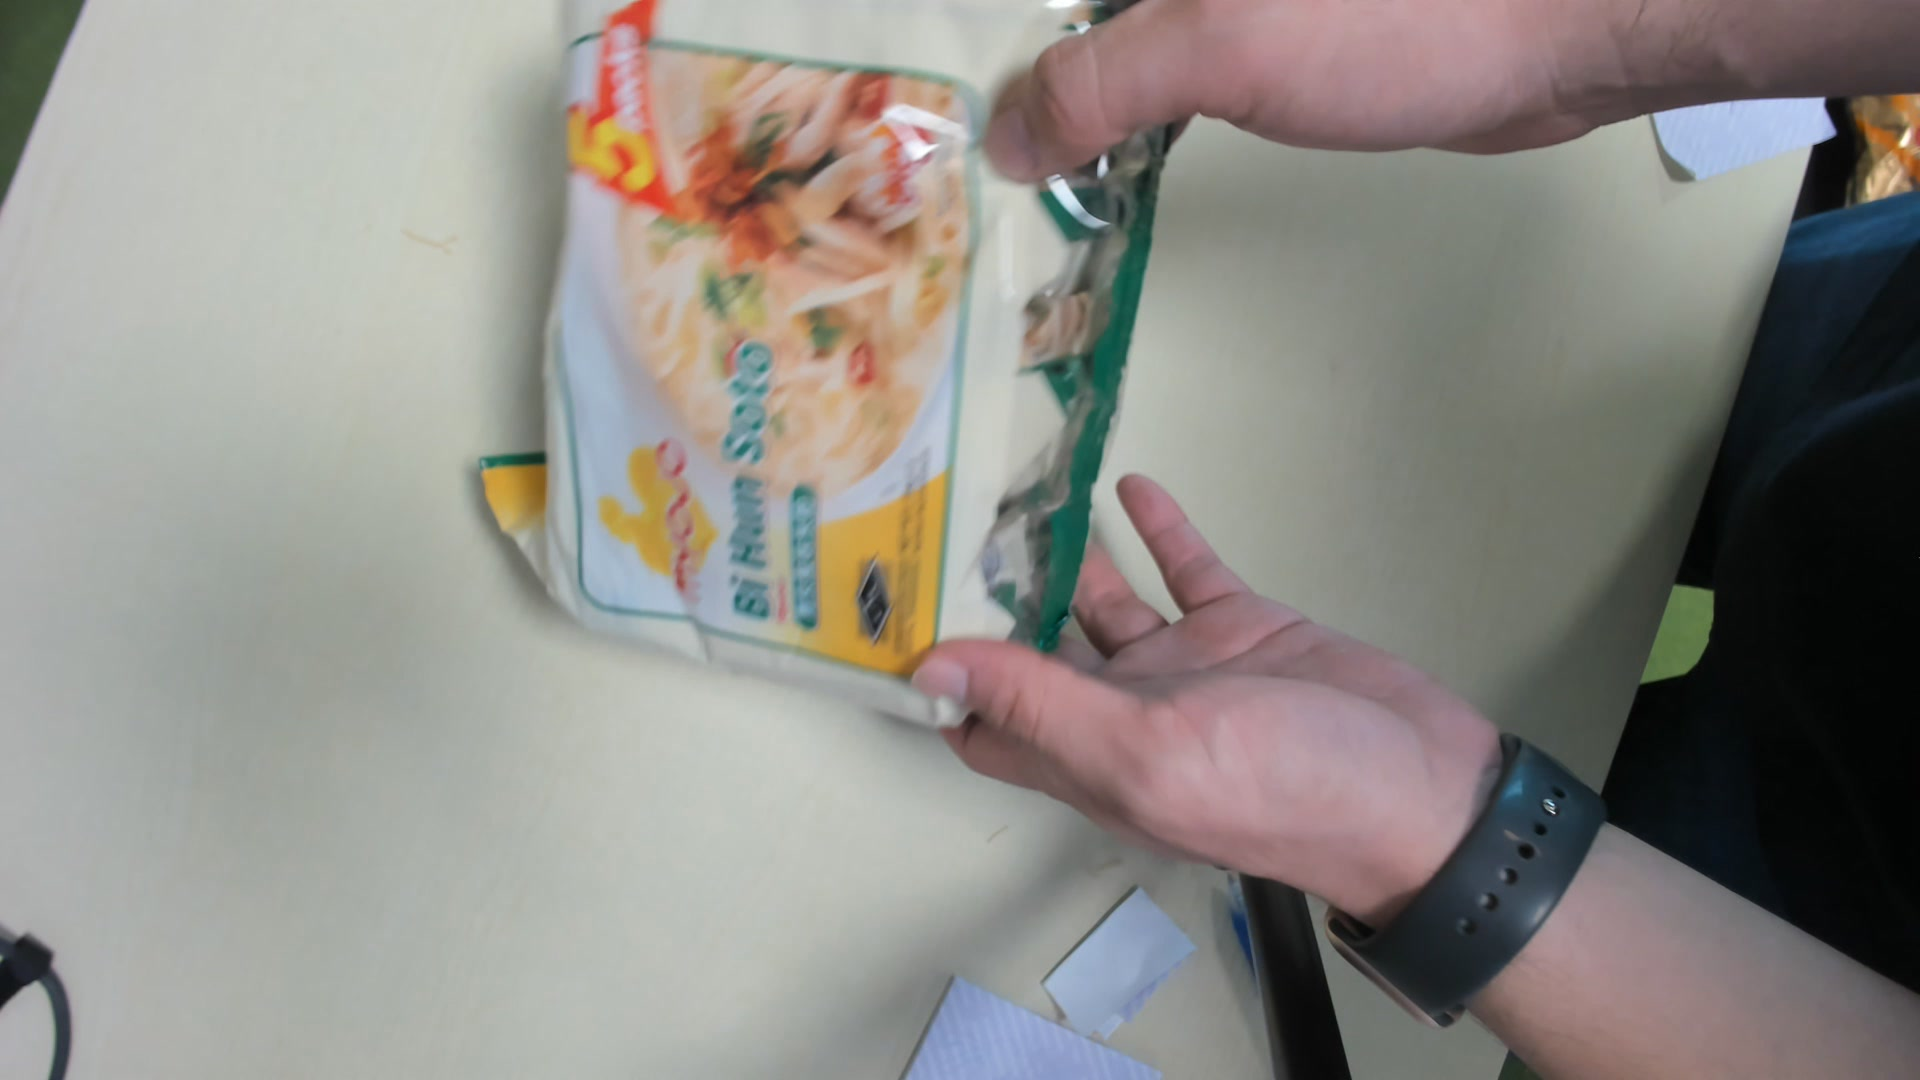OtherNoodles_400-499g_Halal_NonHealthy: (517, 1, 1178, 723)
